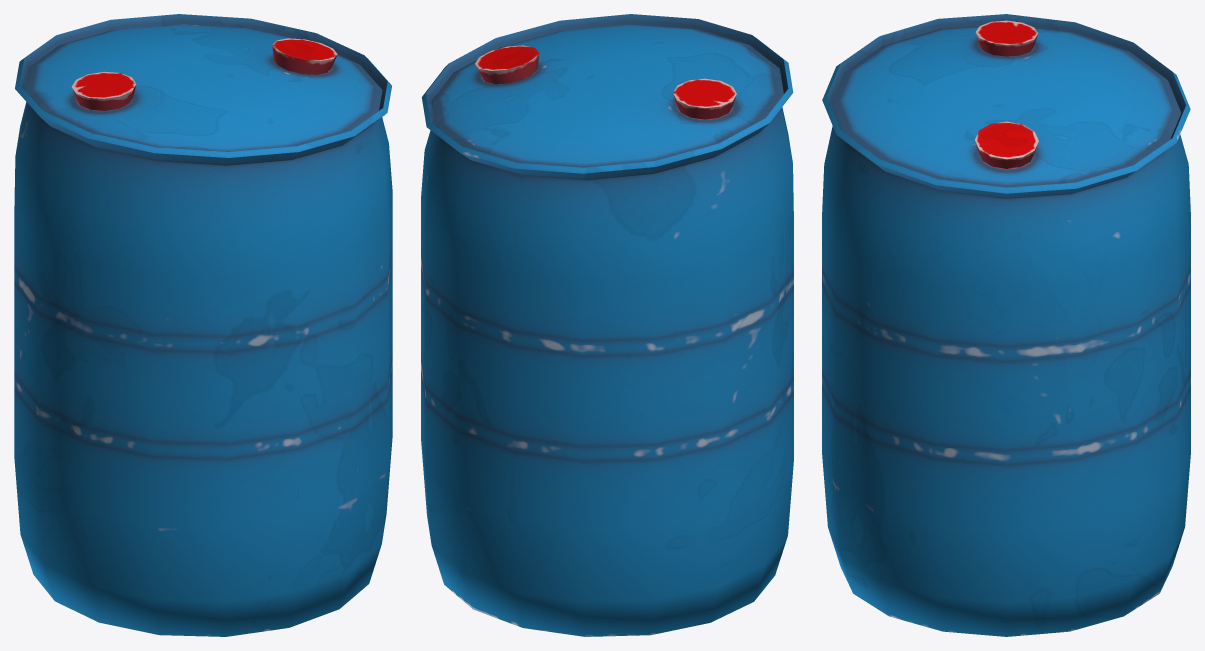
Rendered from BarrelPlastic02.FBX.
3 renders of one model, left to right at view 1: azimuth 30°, elevation 25°; view 2: azimuth 150°, elevation 25°; view 3: azimuth 270°, elevation 25°, orthographic. The views are drawn at different scales.
Visible parts, largest first — view 1: BarrelPlastic02; view 2: BarrelPlastic02; view 3: BarrelPlastic02.
Boxes of the visible parts, x1=… form: BarrelPlastic02: x1=14, y1=14, x2=392, y2=636; BarrelPlastic02: x1=421, y1=14, x2=793, y2=636; BarrelPlastic02: x1=822, y1=14, x2=1190, y2=636.
Size of what is drawn, in the model's own units: 0.7798 by 1.14 by 0.7798.
